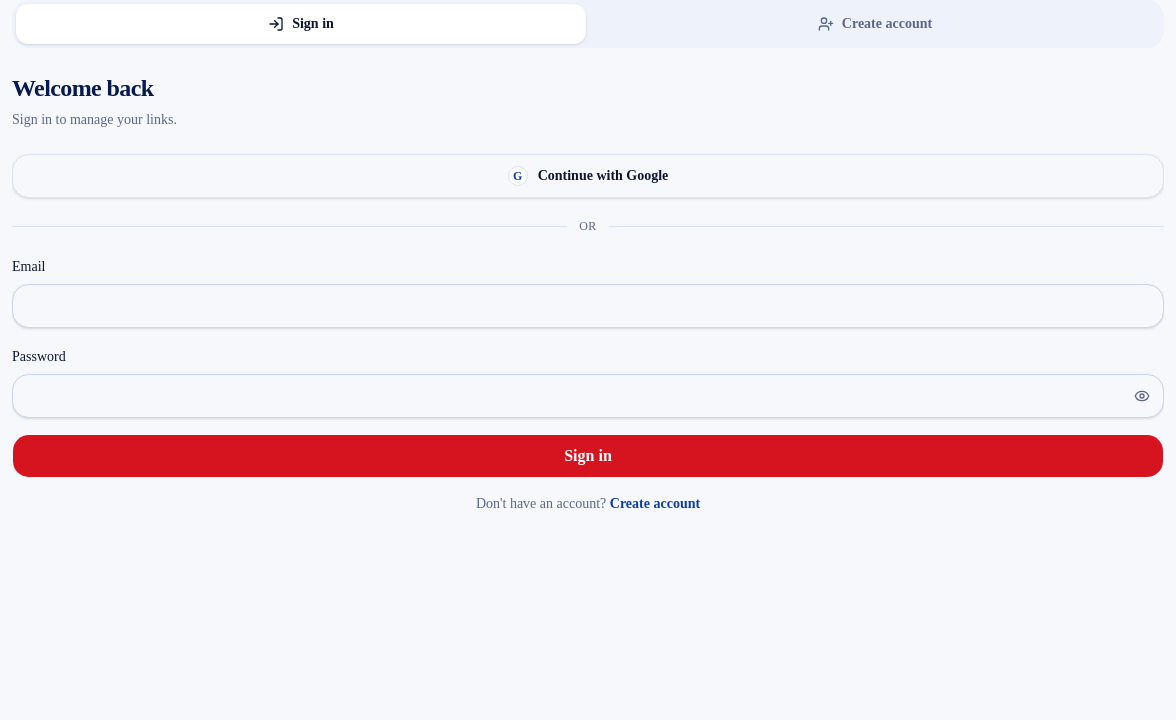
Test: LoginForm › shows a generic message for invalid credentials
Type "ada@example.com" into the field labelled "Email" at (588, 306), box [12, 284, 1164, 328]
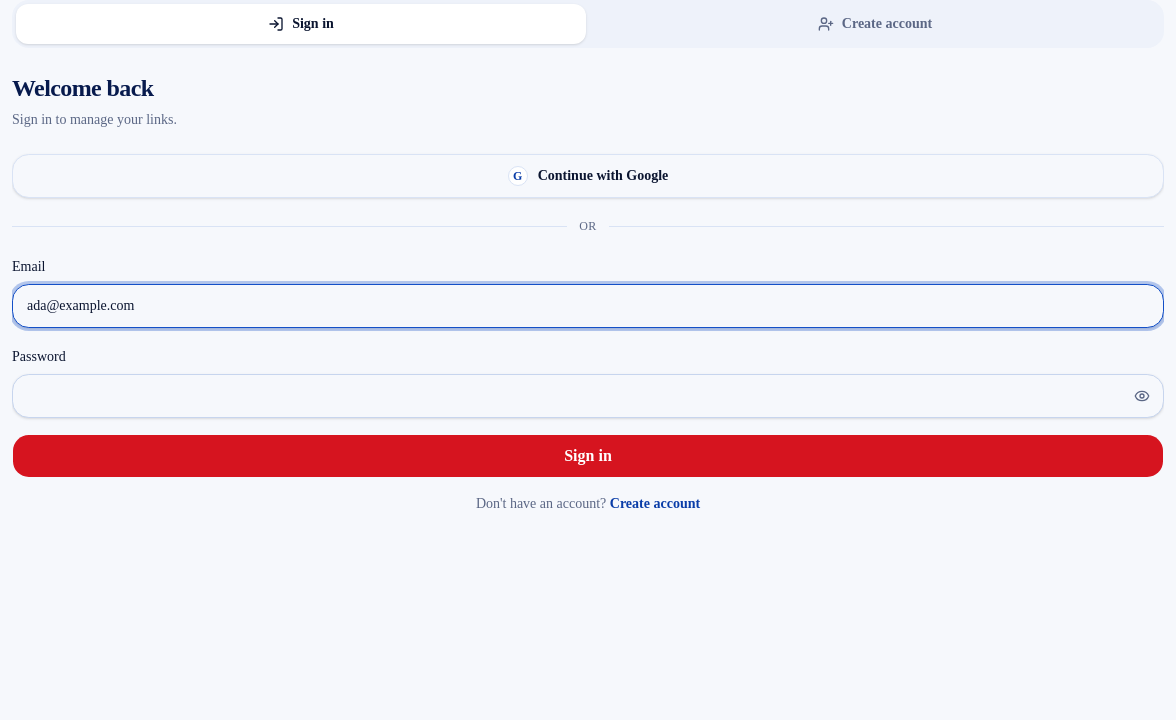
Type "correct horse battery" into the password field labelled "Password" at (588, 396), box [12, 374, 1164, 418]
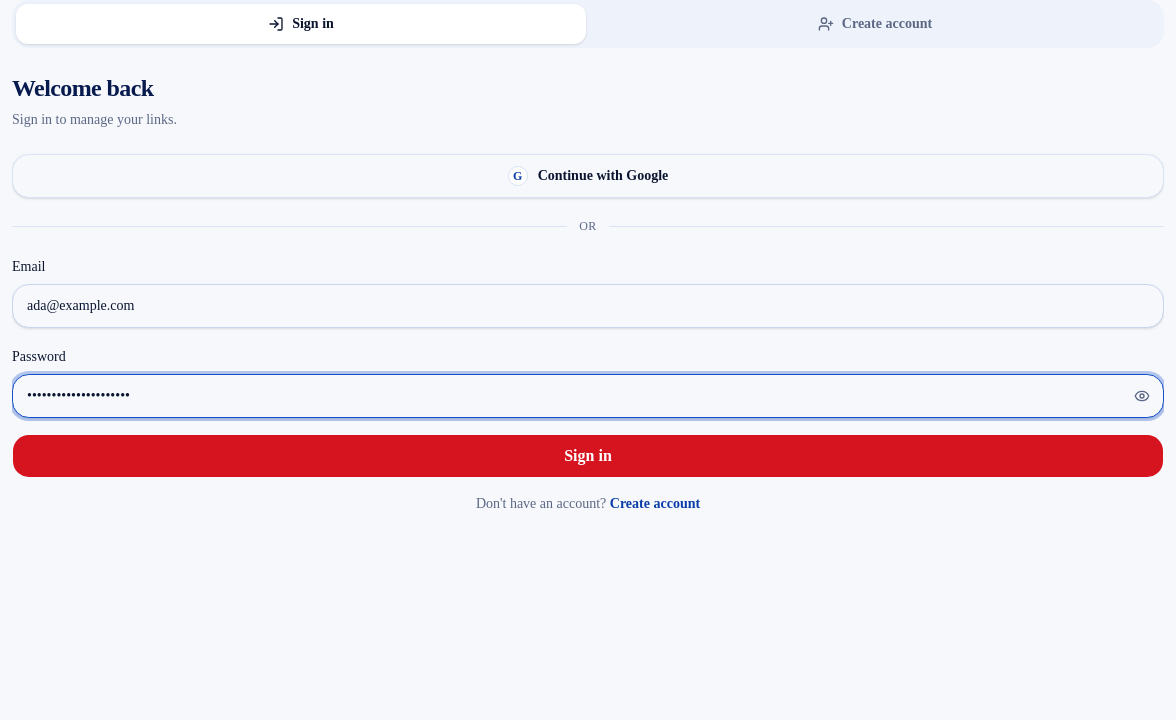
Click the button "Sign in" at (588, 456), box [12, 434, 1164, 478]
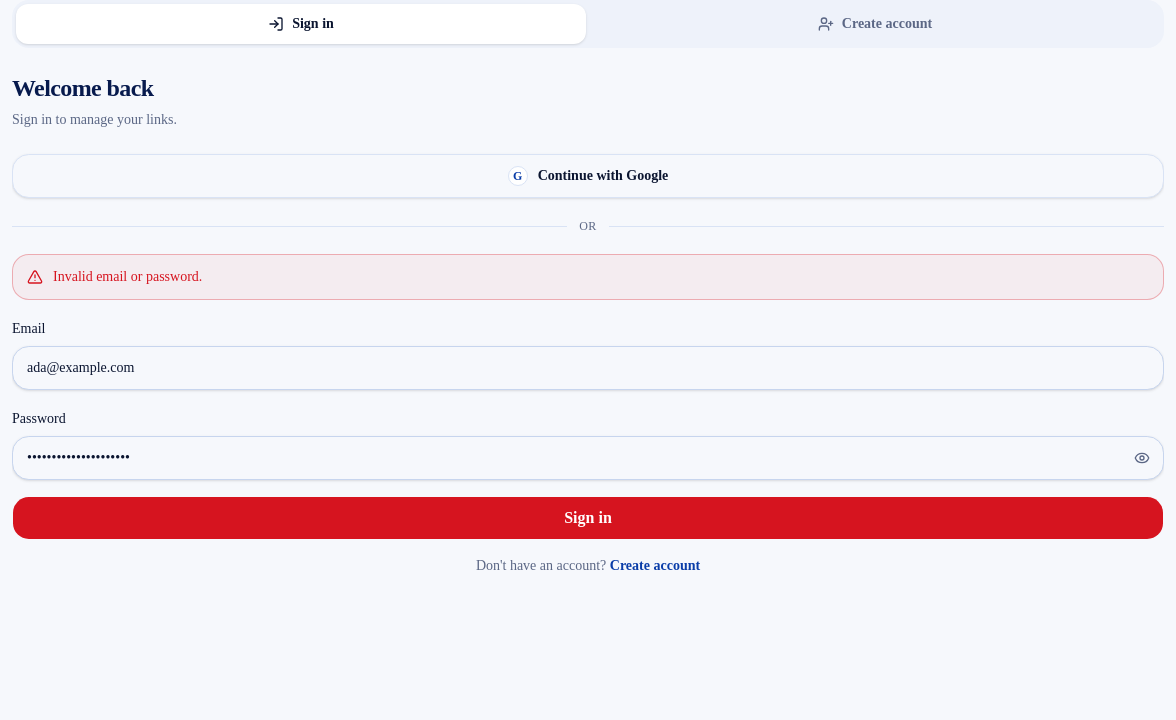
expect the message reads "Invalid email or password.": met, box [53, 269, 202, 284]
